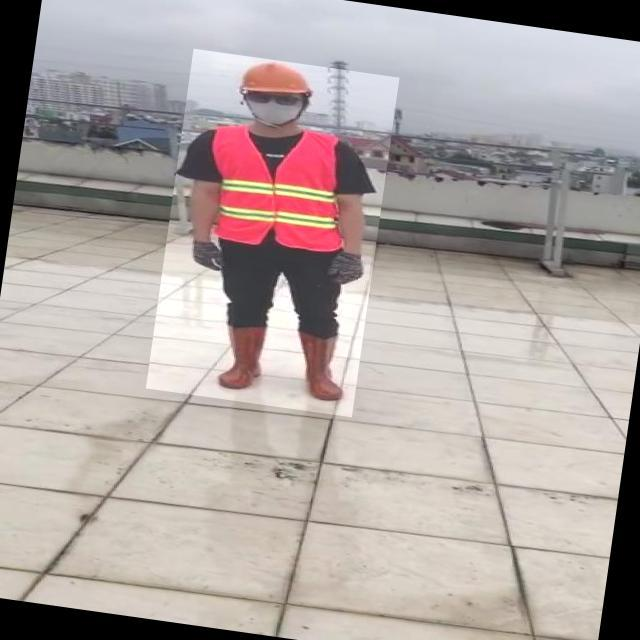Gloves: (327, 256, 369, 289), (189, 240, 223, 275)
Helmet: (234, 58, 314, 102)
Human: (146, 49, 400, 419)
Safety Boot: (286, 331, 355, 408), (214, 323, 271, 396)
Safety Vest: (197, 119, 356, 255)
